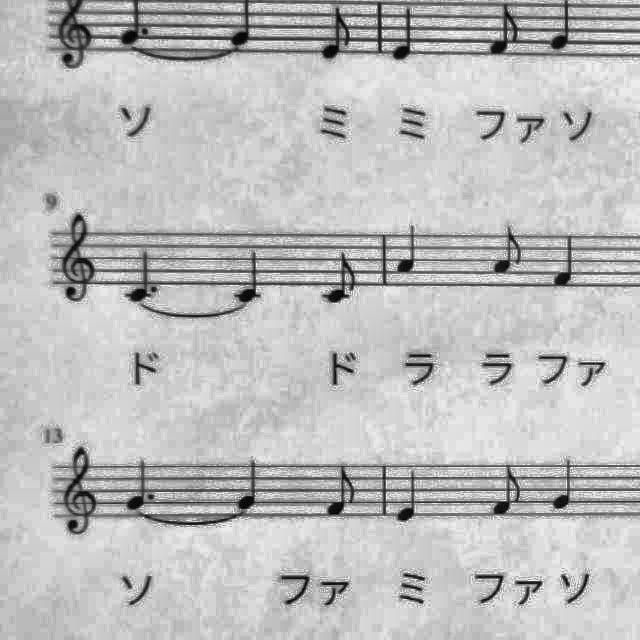Eighth-note: (314, 2, 358, 66), (486, 460, 530, 522), (482, 1, 526, 63), (320, 248, 364, 308), (321, 462, 364, 522), (487, 223, 529, 280)
Quarter-dot: (121, 245, 167, 307), (120, 455, 162, 515)
Quarter-note: (230, 249, 270, 307), (388, 3, 424, 67), (544, 0, 584, 56), (548, 231, 584, 293), (392, 465, 428, 527), (232, 456, 268, 514), (547, 456, 581, 516), (392, 224, 424, 276)
Treble-clef: (52, 205, 104, 303), (56, 442, 104, 542)
